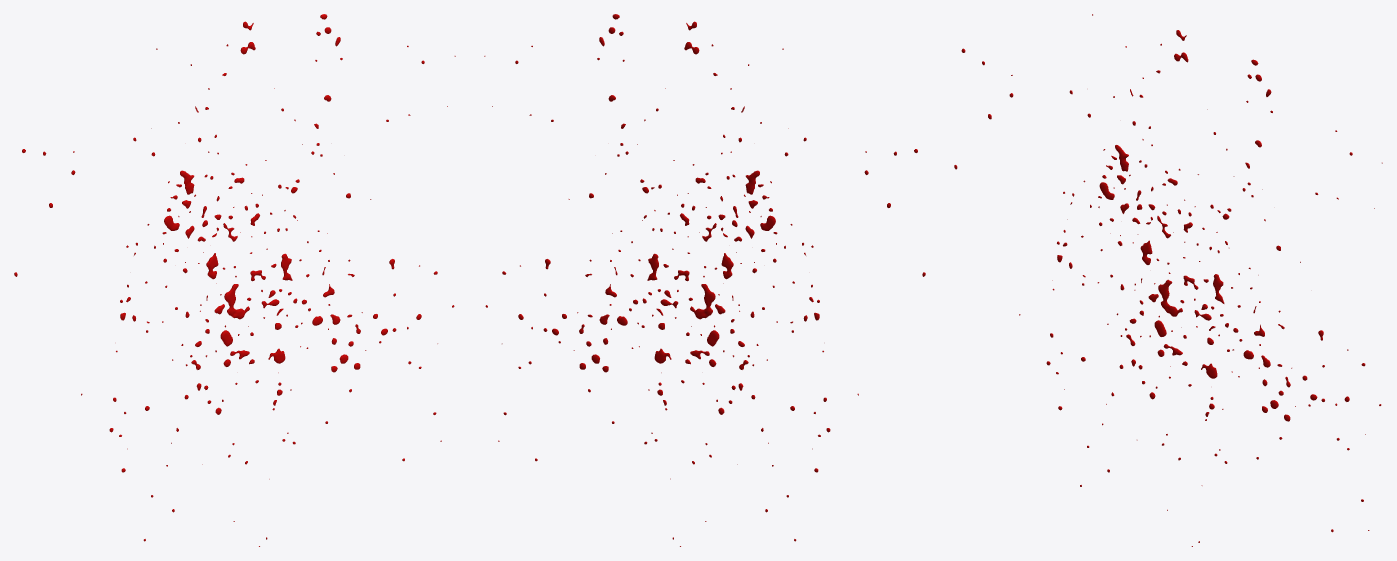
Rendered from small_blood_splatter.glb.
The picture shows the model from 3 angles, left to right: view 1: azimuth 30°, elevation 25°; view 2: azimuth 150°, elevation 25°; view 3: azimuth 330°, elevation 25°; orthographic projection. The views are drawn at different scales.
Parts seen in each view (by area): view 1: Object_2; view 2: Object_2; view 3: Object_2.
Part boxes in pixels (x1,y1,x2,y2): Object_2: (14, 14, 455, 546); Object_2: (484, 14, 925, 546); Object_2: (954, 14, 1382, 546).
Bounding box in the file's own units: 0.6838 × 0.7835 × 0.00393.
